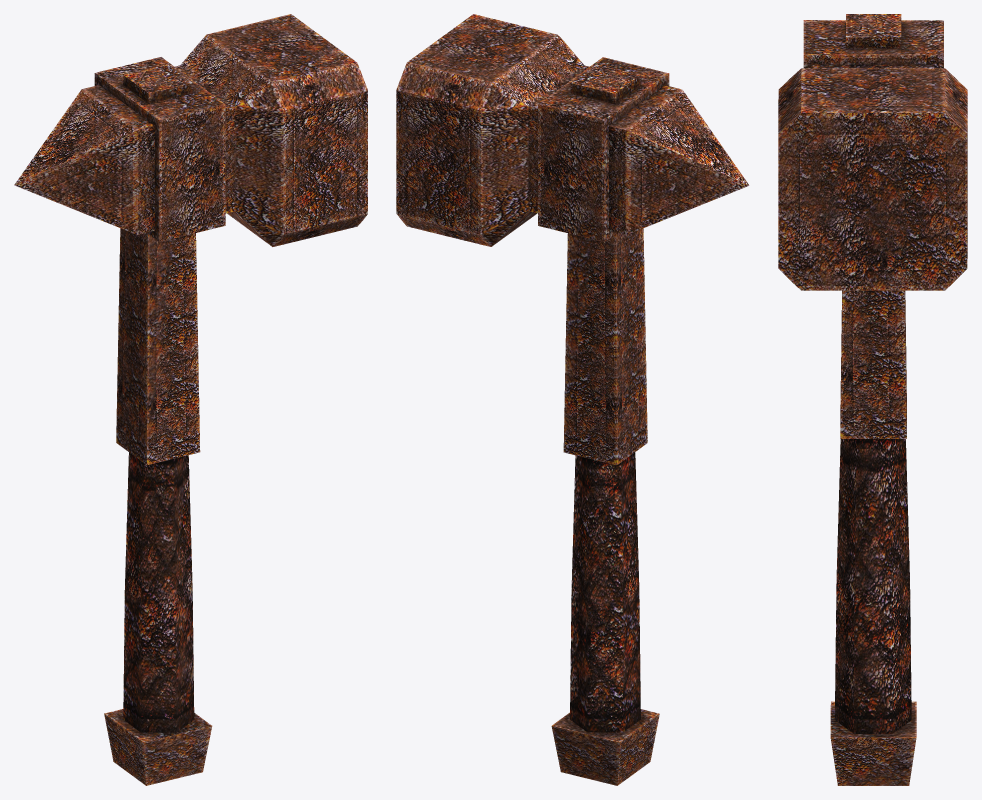
The model's file is hammer01_rusty.FBX.
The picture shows the model from 3 angles, left to right: view 1: azimuth 30°, elevation 25°; view 2: azimuth 150°, elevation 25°; view 3: azimuth 270°, elevation 25°; orthographic projection. The views are drawn at different scales.
Visible parts, largest first — view 1: hammer01; view 2: hammer01; view 3: hammer01.
Boxes of the visible parts, <box> form: hammer01: <box>14,14,367,785</box>; hammer01: <box>396,14,749,785</box>; hammer01: <box>778,14,967,785</box>.
Size of the model in its own units: 0.4364 by 0.9256 by 0.2131.
